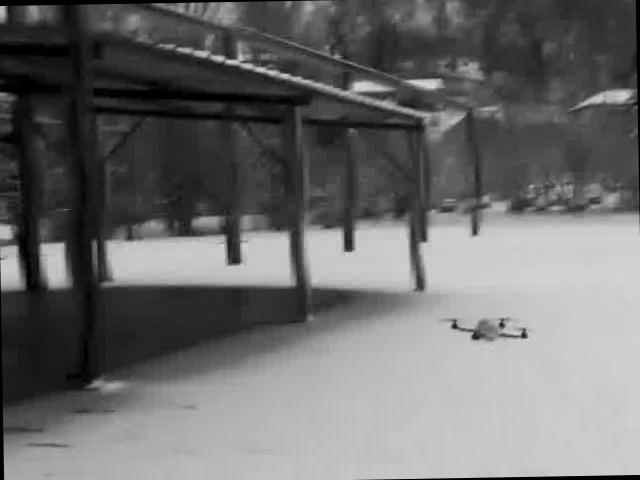drone: (436, 311, 534, 343)
